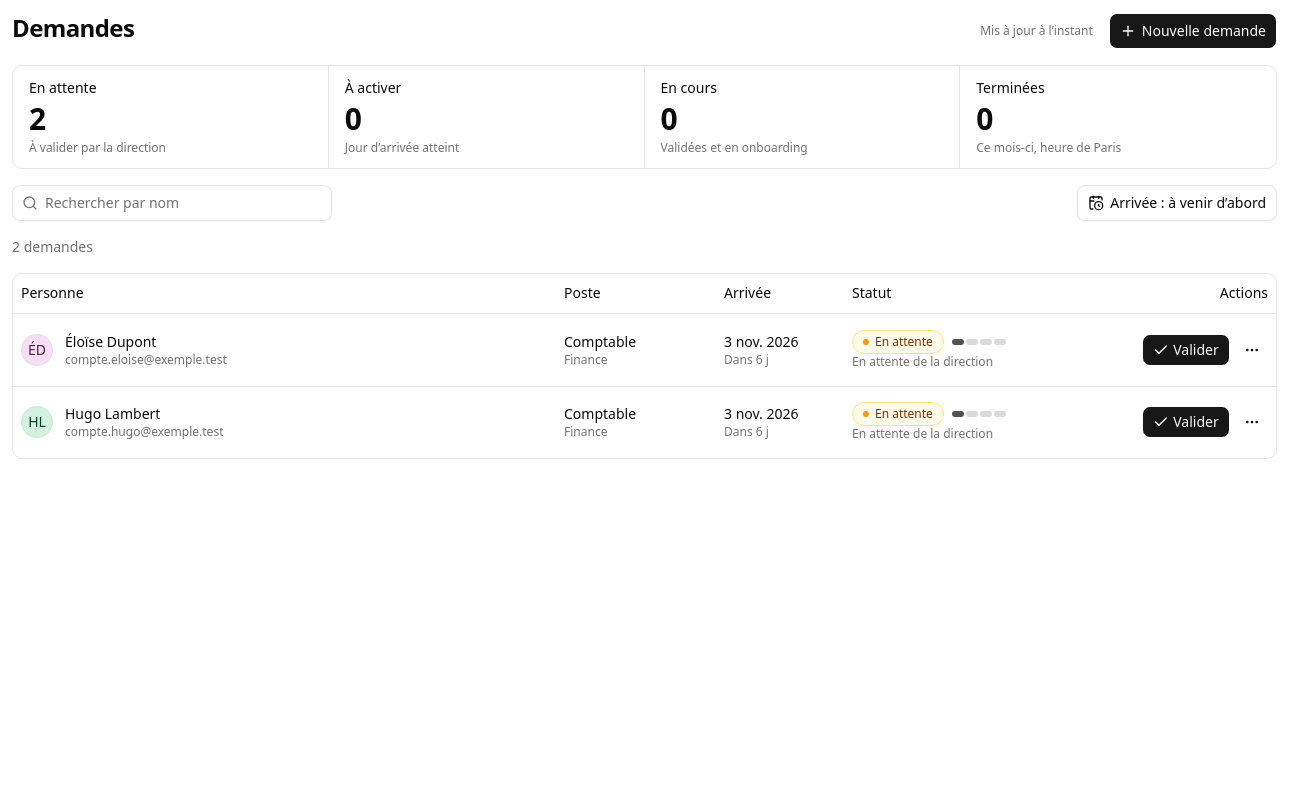
Test case: page de détail /demandes/:id › le nom est un vrai lien vers la page, dont l’adresse ne porte que l’objectId ; « Toutes les demandes » revient à la liste
Expected: the link "Hugo Lambert" is shown, [65,404,160,424]
Click the link with aria-label "Voir le détail de la demande de Éloïse Dupont" at coordinates (111, 342), box [65,332,156,352]
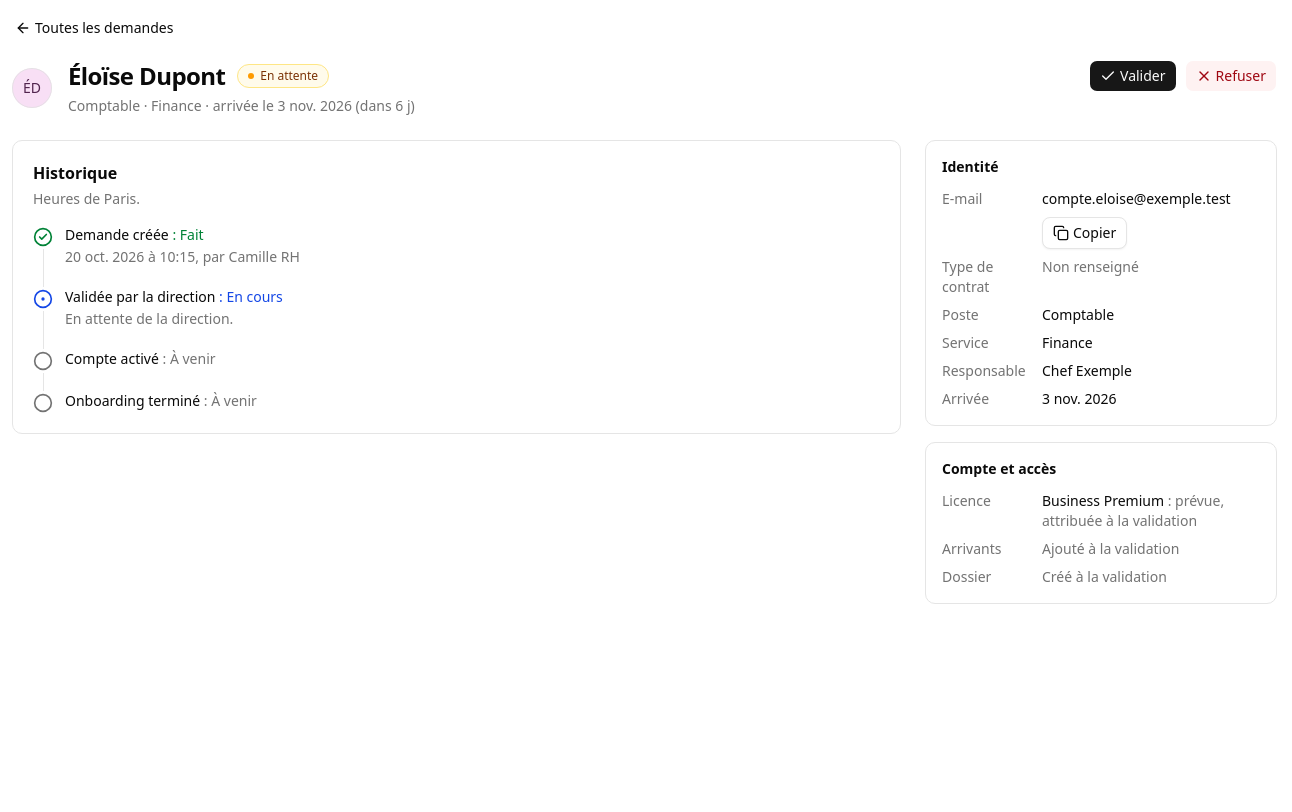
Expected: the heading "Éloïse Dupont" is shown, [68,60,225,92]
Click the link "Toutes les demandes" at coordinates (94, 28), box [15,18,173,37]
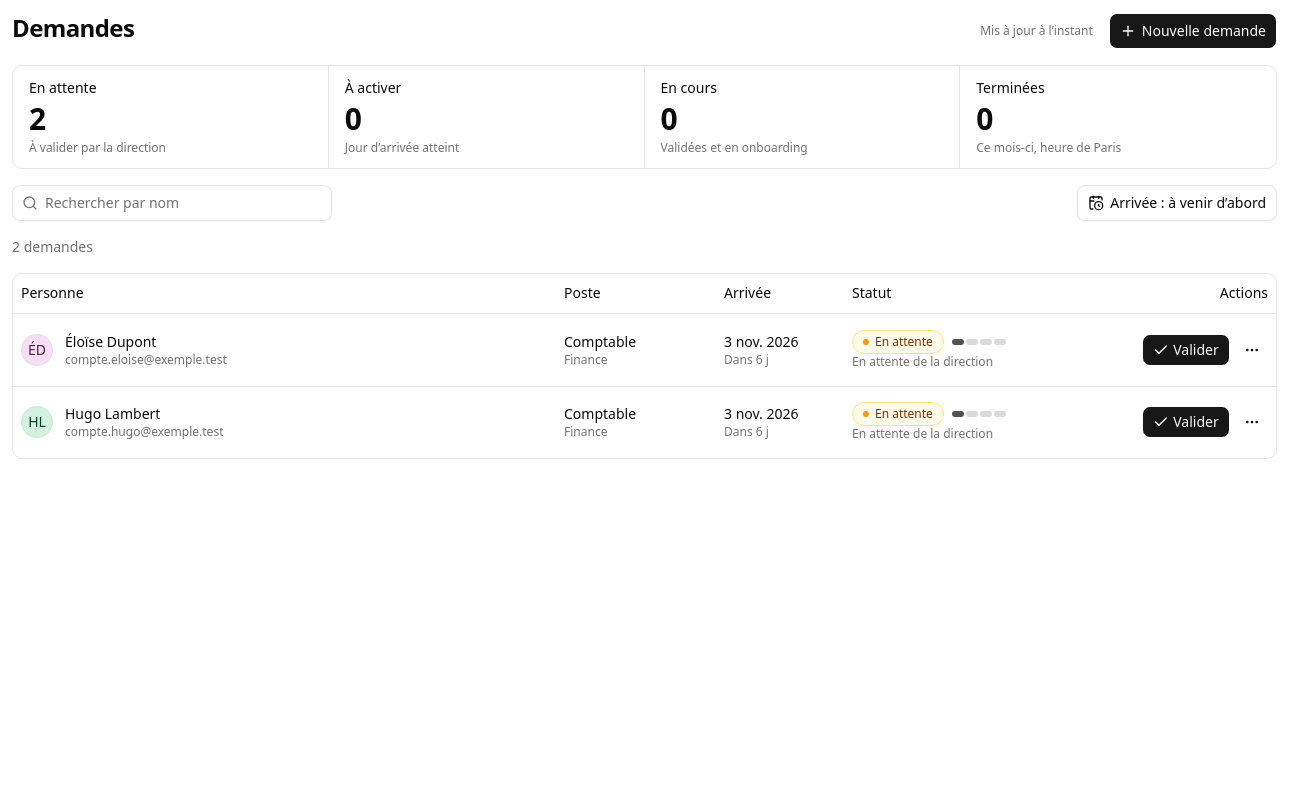
Expected: the link "Hugo Lambert" is shown, [65,404,160,424]
